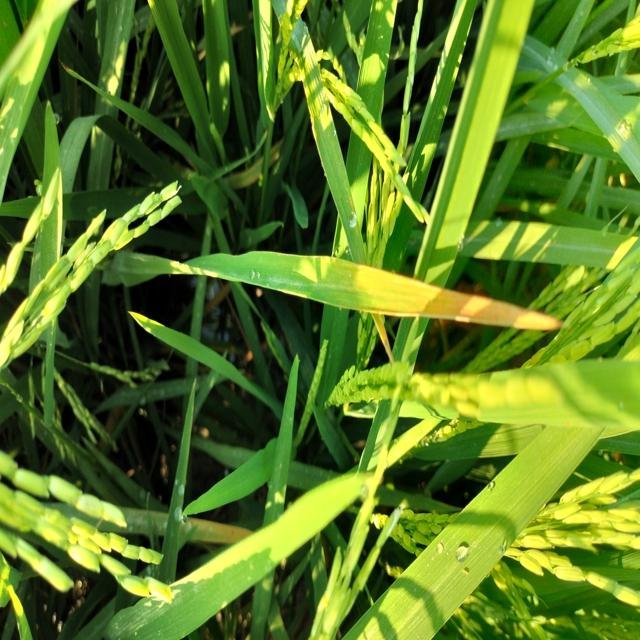Brown spot: (299, 229, 579, 342)
